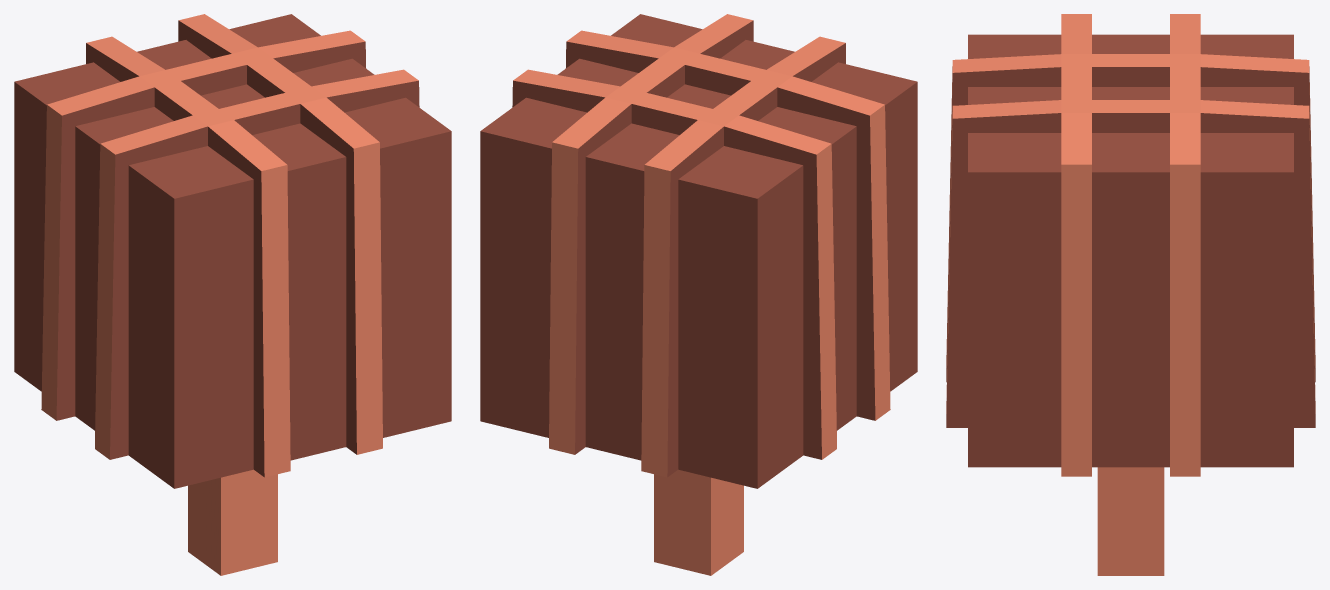
File: White_Shroom_JAM.fbx
3 views of the same model, side by side, from view 1: azimuth 30°, elevation 25°; view 2: azimuth 150°, elevation 25°; view 3: azimuth 270°, elevation 25° (orthographic).
Parts seen in each view (by area): view 1: Cube; view 2: Cube; view 3: Cube.
Part boxes in pixels (x1,y1,x2,y2): Cube: (14,14,451,575); Cube: (480,14,917,575); Cube: (946,14,1315,575).
Size of the model in its own units: 95.92 by 137 by 95.92.
